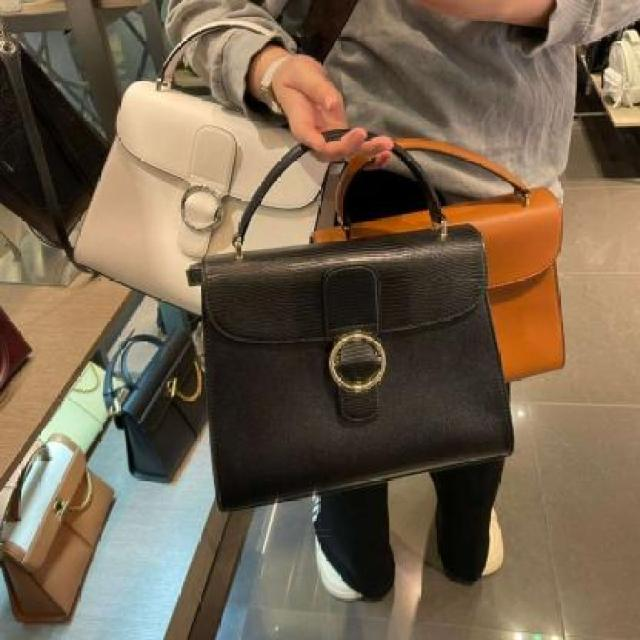Bag: (200, 88, 568, 535), (33, 21, 356, 353), (0, 426, 131, 626)
